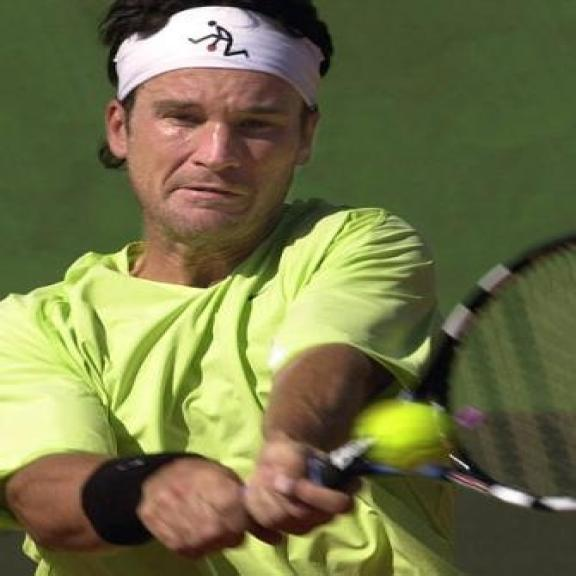face: (100, 66, 333, 241)
